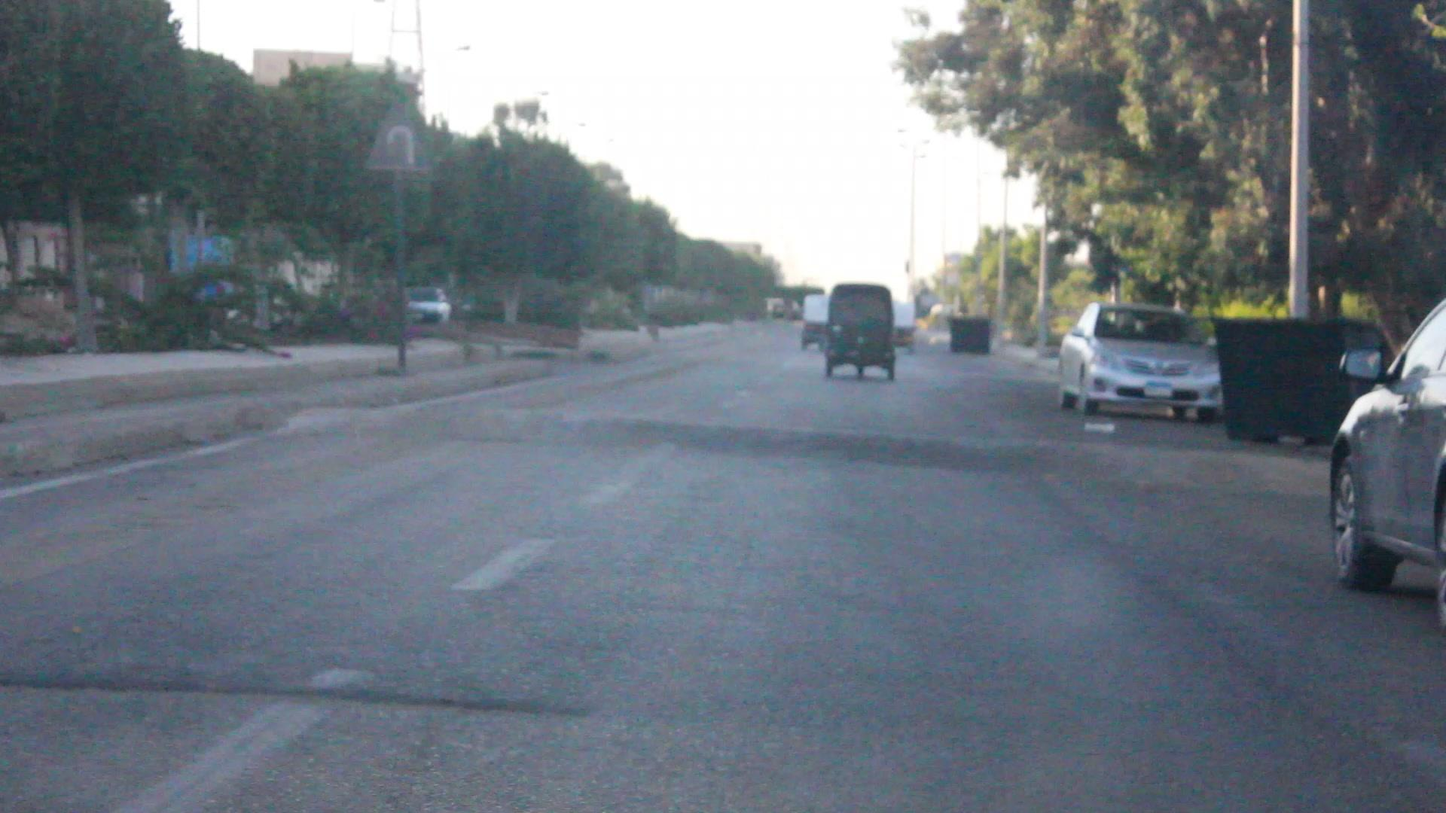Bump: (299, 399, 1295, 487)
